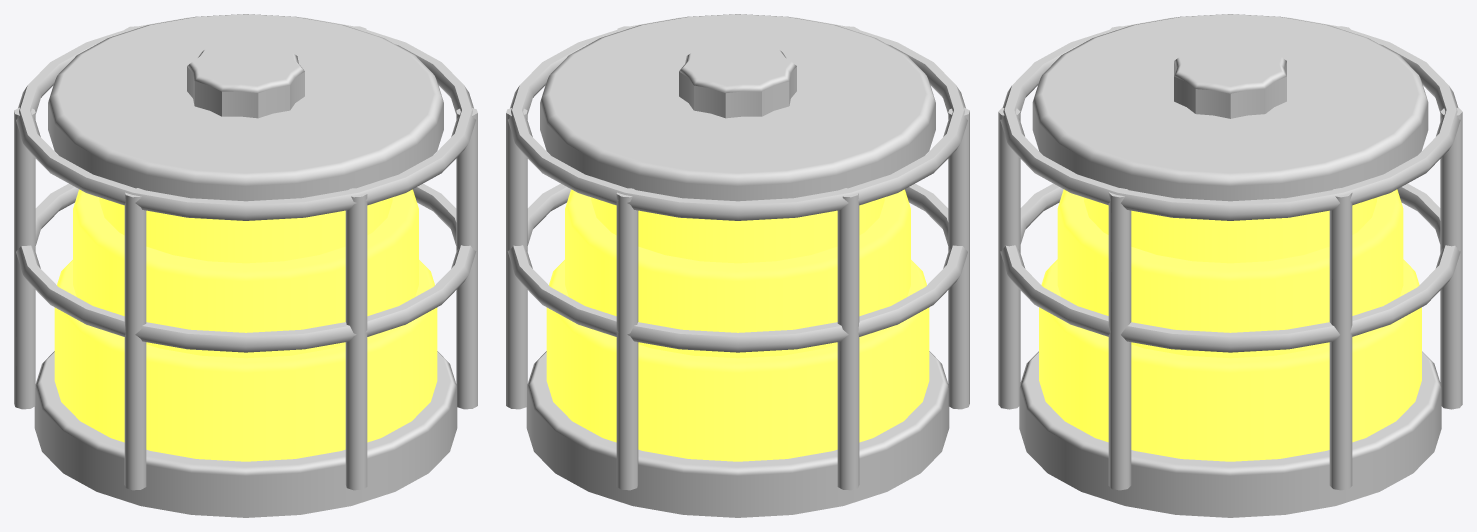
File: NavBeacon_Lamp.fbx
3 views of the same model, side by side, from view 1: azimuth 30°, elevation 25°; view 2: azimuth 150°, elevation 25°; view 3: azimuth 270°, elevation 25° (orthographic).
Visible parts, largest first — view 1: Beacon_LampCap, Beacon_LampCage, Beacon_Lens1, Beacon_Lens2, Beacon_LampCollar, Beacon_Lens3, Beacon_LampVent; view 2: Beacon_LampCap, Beacon_LampCage, Beacon_Lens1, Beacon_Lens2, Beacon_LampCollar, Beacon_Lens3, Beacon_LampVent; view 3: Beacon_LampCap, Beacon_LampCage, Beacon_Lens1, Beacon_Lens2, Beacon_LampCollar, Beacon_Lens3, Beacon_LampVent.
Part boxes in pixels (x1,y1,x2,y2): Beacon_LampCap: [48, 14, 443, 201]; Beacon_LampCage: [14, 17, 477, 490]; Beacon_Lens1: [54, 260, 437, 461]; Beacon_Lens2: [73, 189, 418, 358]; Beacon_LampCollar: [34, 351, 457, 517]; Beacon_Lens3: [99, 197, 392, 263]; Beacon_LampVent: [187, 41, 304, 118]; Beacon_LampCap: [540, 14, 935, 201]; Beacon_LampCage: [506, 17, 969, 490]; Beacon_Lens1: [546, 260, 929, 461]; Beacon_Lens2: [565, 189, 910, 358]; Beacon_LampCollar: [526, 351, 949, 517]; Beacon_Lens3: [591, 197, 884, 263]; Beacon_LampVent: [679, 41, 796, 118]; Beacon_LampCap: [1032, 14, 1428, 201]; Beacon_LampCage: [998, 17, 1462, 490]; Beacon_Lens1: [1039, 259, 1421, 461]; Beacon_Lens2: [1057, 189, 1403, 358]; Beacon_LampCollar: [1019, 351, 1441, 517]; Beacon_Lens3: [1084, 197, 1376, 263]; Beacon_LampVent: [1174, 41, 1286, 118].
Bounding box in the file's own units: 0.07 × 0.061 × 0.0704.
